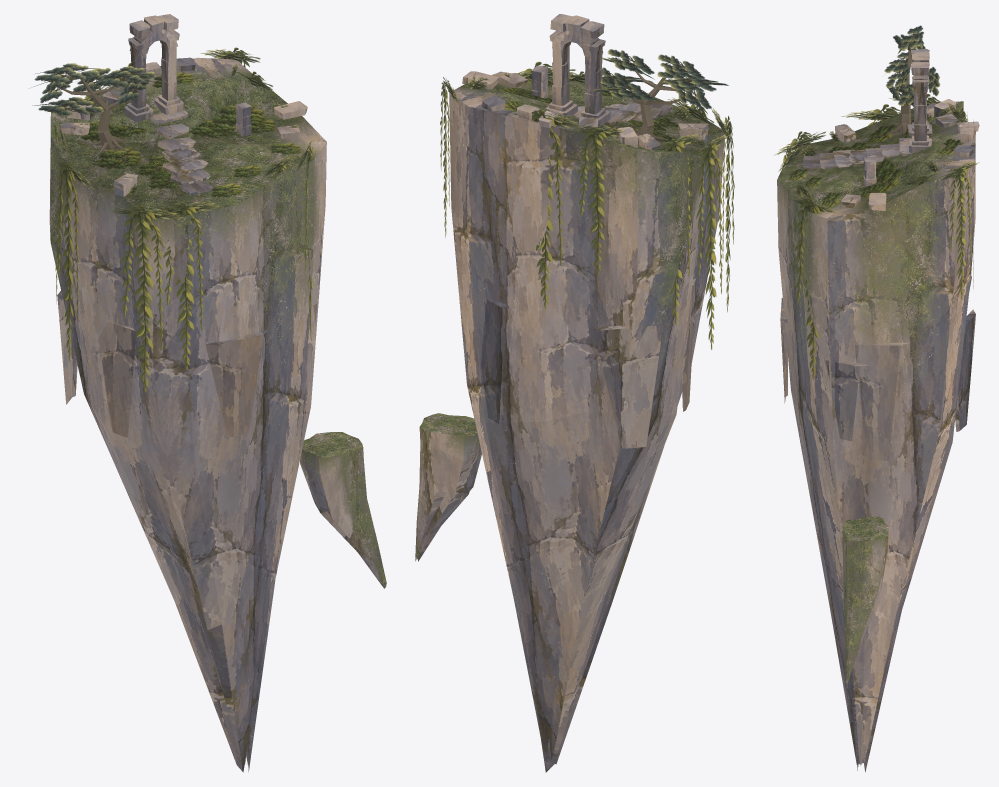
Rendered from tall-spire.glb.
3 views of the same model, side by side, from view 1: azimuth 30°, elevation 25°; view 2: azimuth 150°, elevation 25°; view 3: azimuth 270°, elevation 25° (orthographic). The views are drawn at different scales.
Visible parts, largest first — view 1: tall-spire-continuous-fractured-stone, tall-spire-ruins-path-and-splintered-ledges, tall-spire-painted-pine-ivy-and-moss, tall-spire-long-hanging-vine-quads, tall-spire-satellite-0-continuous-fractured-stone, tall-spire-summit-soil-and-bent-trunks; view 2: tall-spire-continuous-fractured-stone, tall-spire-ruins-path-and-splintered-ledges, tall-spire-long-hanging-vine-quads, tall-spire-painted-pine-ivy-and-moss, tall-spire-satellite-0-continuous-fractured-stone, tall-spire-summit-soil-and-bent-trunks; view 3: tall-spire-continuous-fractured-stone, tall-spire-ruins-path-and-splintered-ledges, tall-spire-painted-pine-ivy-and-moss, tall-spire-satellite-0-continuous-fractured-stone, tall-spire-long-hanging-vine-quads, tall-spire-summit-soil-and-bent-trunks.
Part boxes in pixels (<box>): tall-spire-continuous-fractured-stone: <box>49,57,326,772</box>; tall-spire-ruins-path-and-splintered-ledges: <box>57,14,317,437</box>; tall-spire-painted-pine-ivy-and-moss: <box>29,49,312,219</box>; tall-spire-long-hanging-vine-quads: <box>54,47,313,392</box>; tall-spire-satellite-0-continuous-fractured-stone: <box>300,432,386,588</box>; tall-spire-summit-soil-and-bent-trunks: <box>58,77,128,154</box>; tall-spire-continuous-fractured-stone: <box>449,71,724,772</box>; tall-spire-ruins-path-and-splintered-ledges: <box>462,14,708,448</box>; tall-spire-long-hanging-vine-quads: <box>440,62,734,349</box>; tall-spire-painted-pine-ivy-and-moss: <box>443,49,732,168</box>; tall-spire-satellite-0-continuous-fractured-stone: <box>415,413,481,561</box>; tall-spire-summit-soil-and-bent-trunks: <box>631,71,680,140</box>; tall-spire-continuous-fractured-stone: <box>777,101,975,771</box>; tall-spire-ruins-path-and-splintered-ledges: <box>780,49,979,460</box>; tall-spire-painted-pine-ivy-and-moss: <box>774,25,979,213</box>; tall-spire-satellite-0-continuous-fractured-stone: <box>842,516,889,684</box>; tall-spire-long-hanging-vine-quads: <box>783,93,973,379</box>; tall-spire-summit-soil-and-bent-trunks: <box>886,43,911,137</box>.
Bounding box in the file's own units: 24.67 × 53.05 × 15.15.
6 materials, 5 textured.
